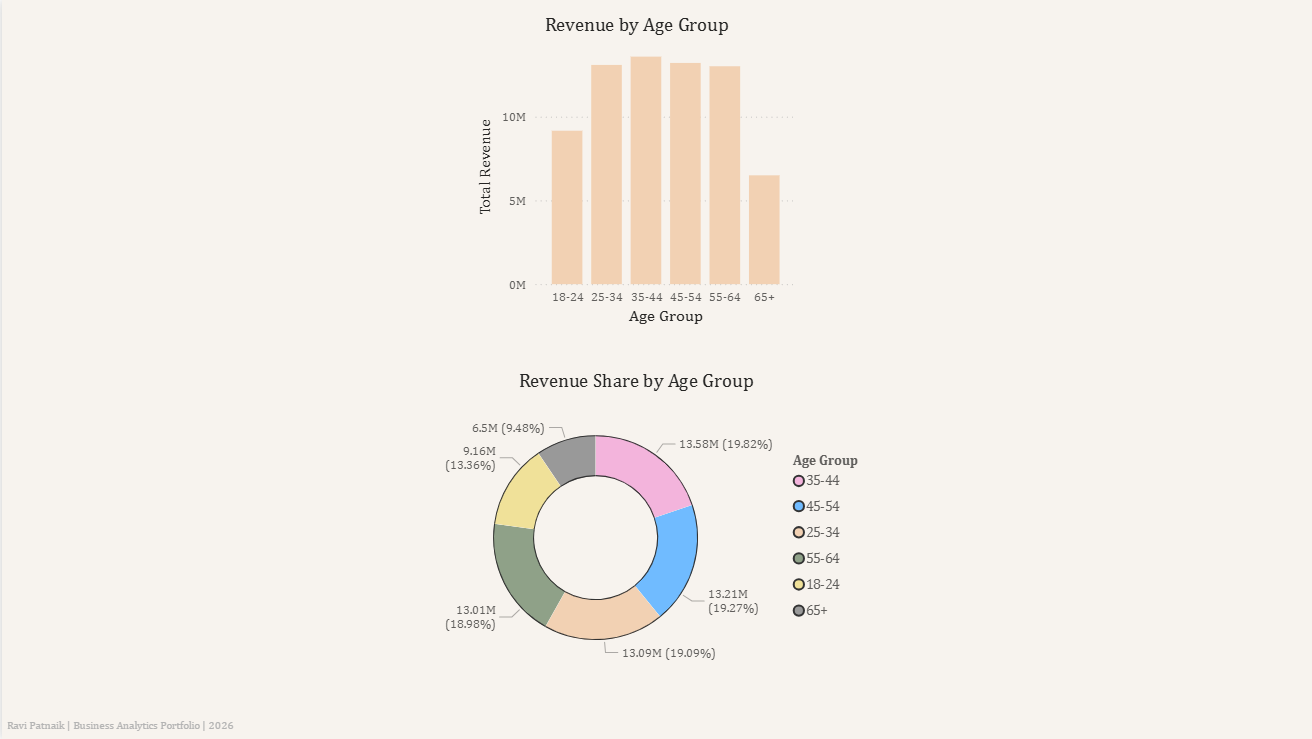

What the dashboard file says about the page in this screenshot:
{"tool":"powerbi","page":{"name":"Customer insights","canvas":[1280,720],"ordinal":1},"visuals":[{"type":"clusteredColumnChart","title":"Revenue by Age Group","fields":{"Category":["customer_shopping_cleaned.Age Group"],"Y":["Sum(customer_shopping_cleaned.price)"]},"box":[457.8,12.2,321.1,308.9],"z":0},{"type":"donutChart","title":"Revenue Share by Age Group","fields":{"Category":["customer_shopping_cleaned.Age Group"],"Y":["Sum(customer_shopping_cleaned.price)"]},"box":[381.1,360,473.3,305.6],"z":1000},{"type":"textbox","box":[0,693.3,243.3,26.7],"z":2000}]}

Visuals, with their boxes in screenshot pixels (x1, y1, x2, y2), scaled from the page's 1280x720 canvas onto the 1312x739 screenshot:
"Revenue by Age Group" clusteredColumnChart: [469, 13, 798, 330]
"Revenue Share by Age Group" donutChart: [391, 369, 876, 683]
textbox: [0, 712, 249, 738]
